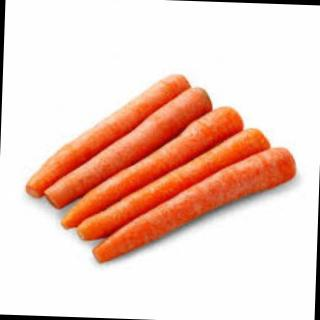Wortel: (92, 140, 300, 275), (60, 101, 248, 239), (77, 121, 274, 250), (25, 68, 195, 206), (44, 82, 217, 217)
